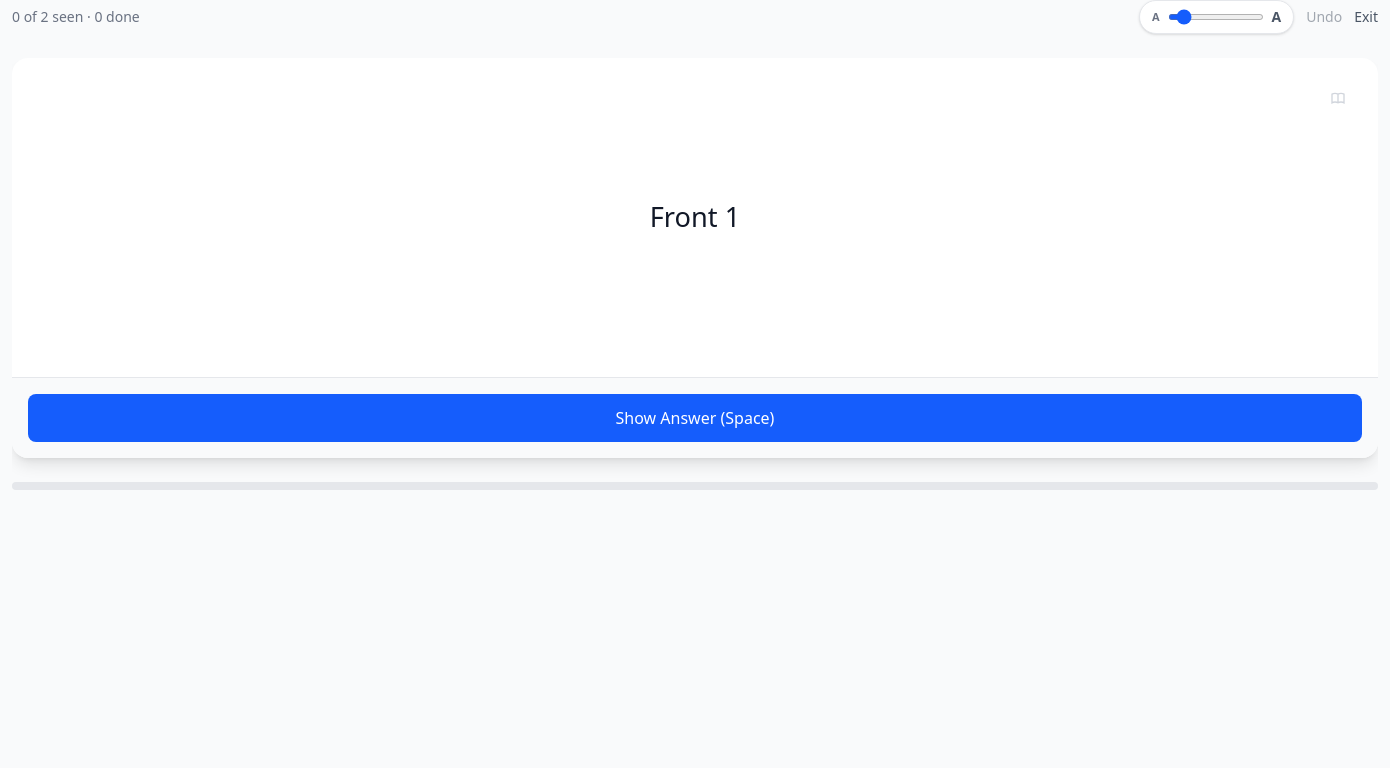
Scenario: FlashcardReview: removing a card’s picture is the teacher’s (v1.20.0) › a student sees the picture and the approved mnemonic on the back, with no Remove and no suggestion buttons
Click the button "Show Answer (Space)": coordinates (695, 418) x1=28 y1=394 x2=1362 y2=442
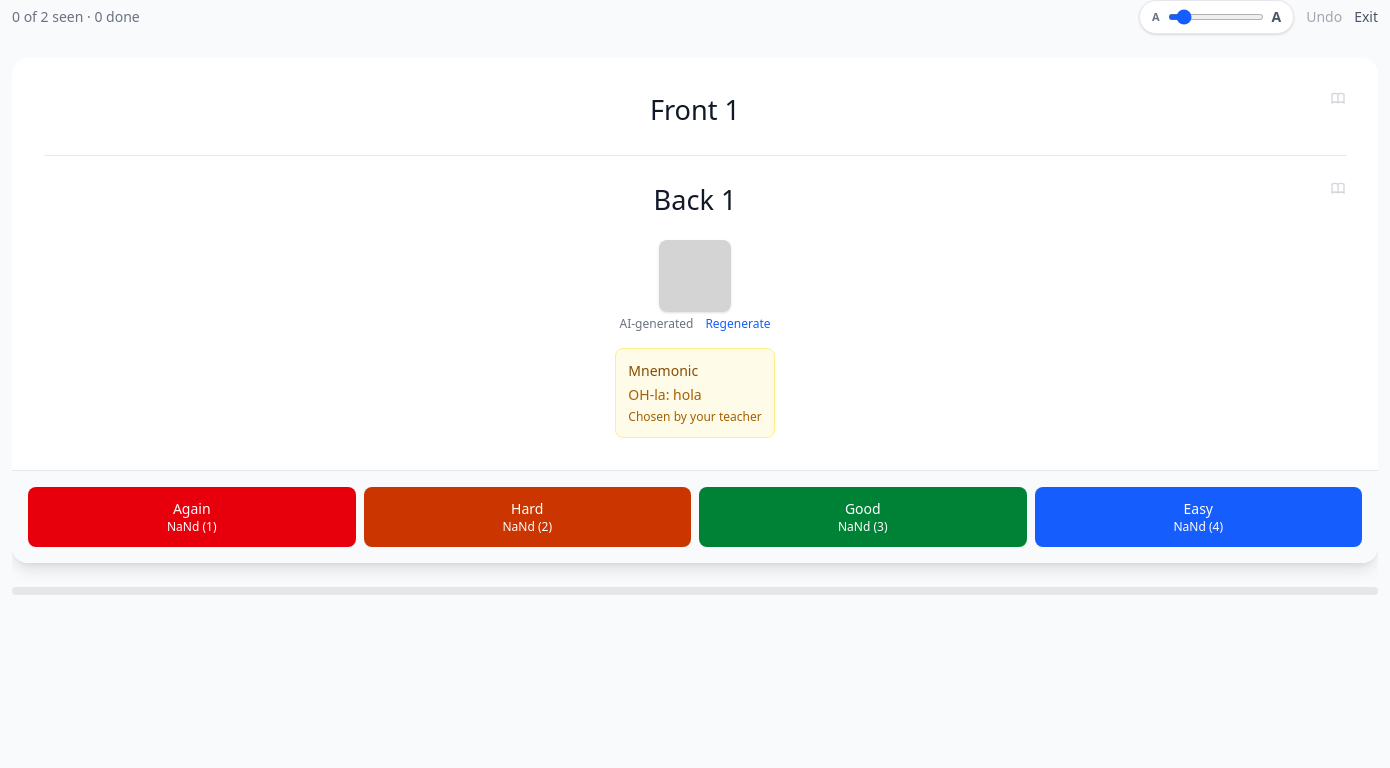
Expected: the text "OH-la: hola" is shown, x1=628 y1=385 x2=702 y2=404
Expected: the number of buttons "Regenerate" is 1, x1=705 y1=316 x2=770 y2=332
